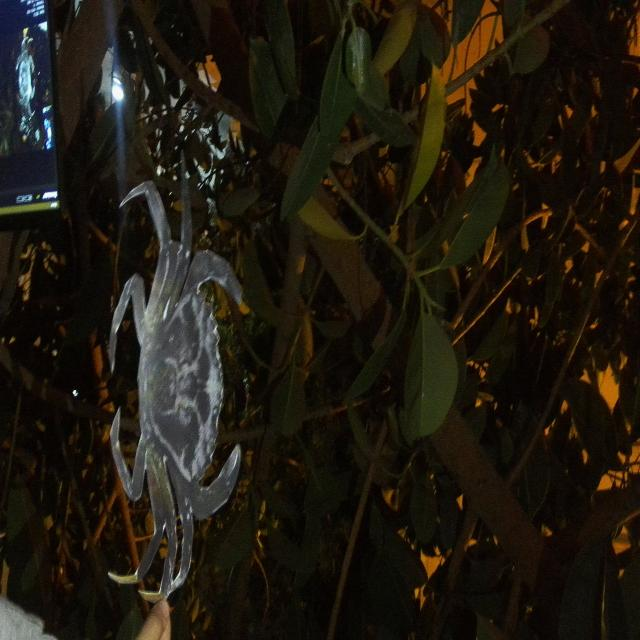European_Green_Crab: (106, 172, 248, 611)
